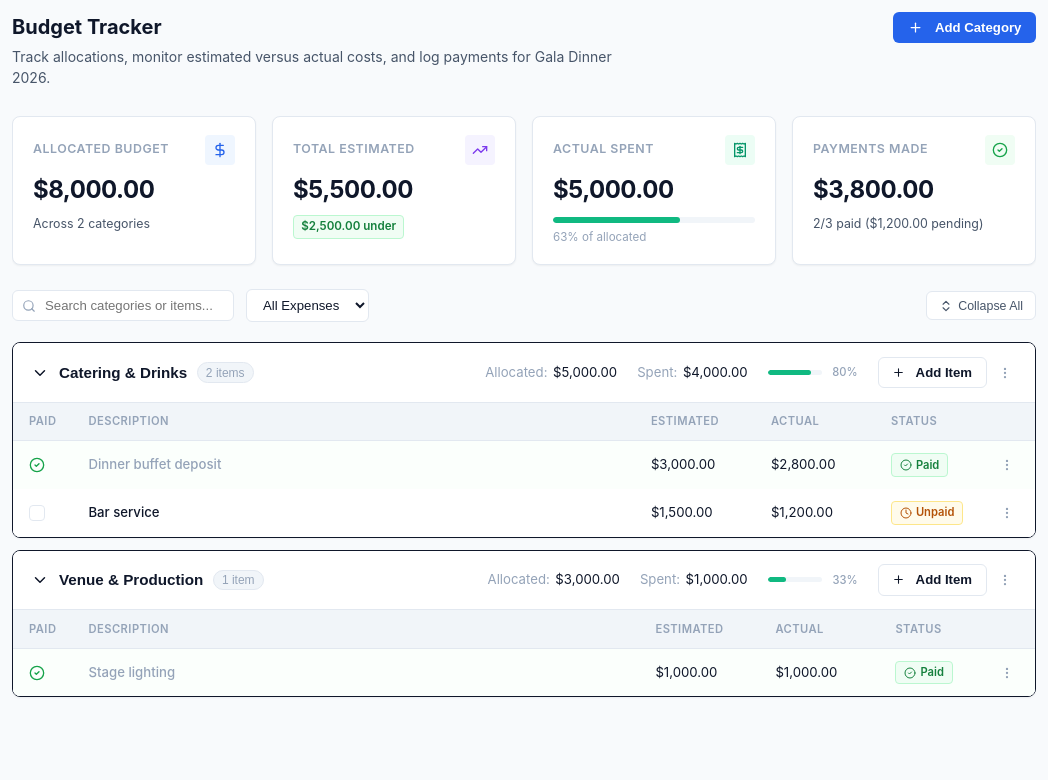
Test: Nested Budget Category & Line Items Table (Sub-Task 3.4.2) › toggles expand and collapse of category accordion
The image size is (1048, 780).
Expected: the text "Dinner buffet deposit" is shown, [88,456,221,472]
Click the button with aria-label "Toggle Catering & Drinks category line items": (142, 373) [31,362,254,383]
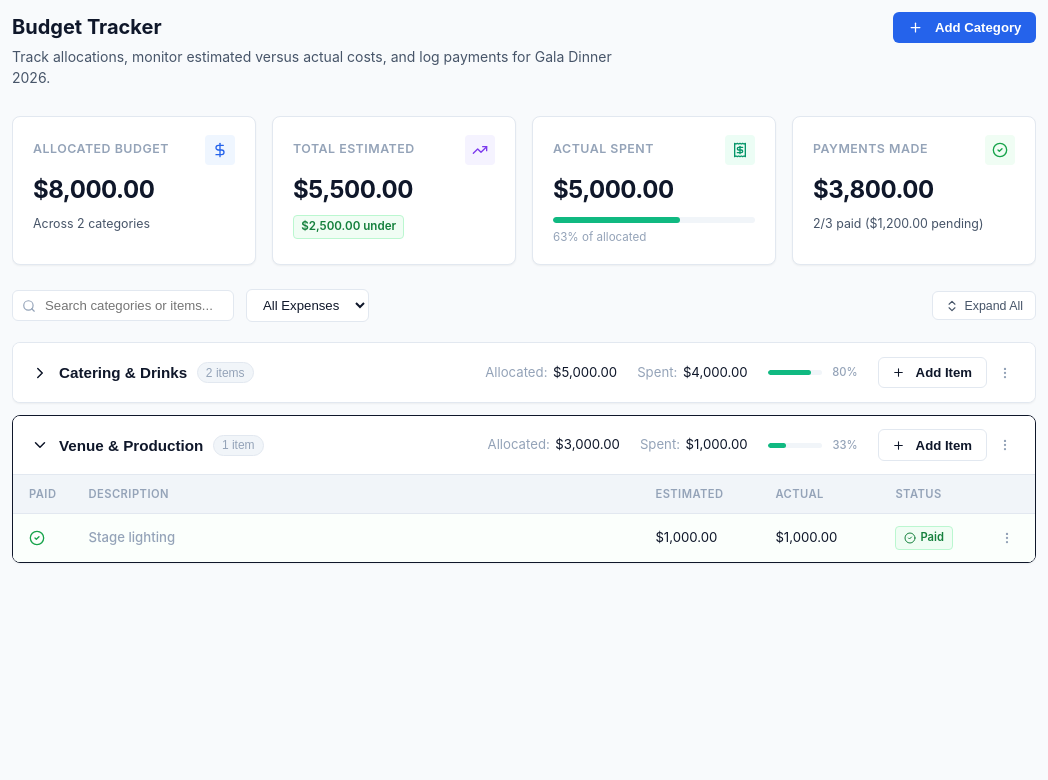
Result: the text "Dinner buffet deposit" is gone
Note: Expand again
Click the button with aria-label "Toggle Catering & Drinks category line items": (142, 373) [31,362,254,383]
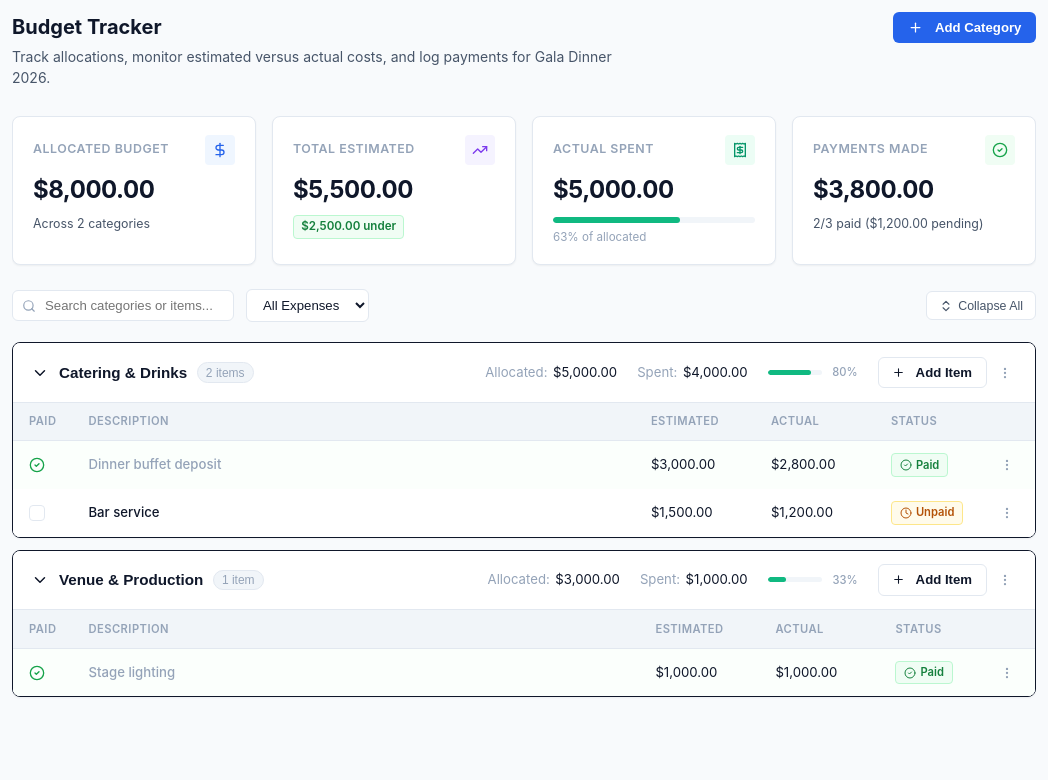
Result: the text "Dinner buffet deposit" is shown at [88,456,221,472]
